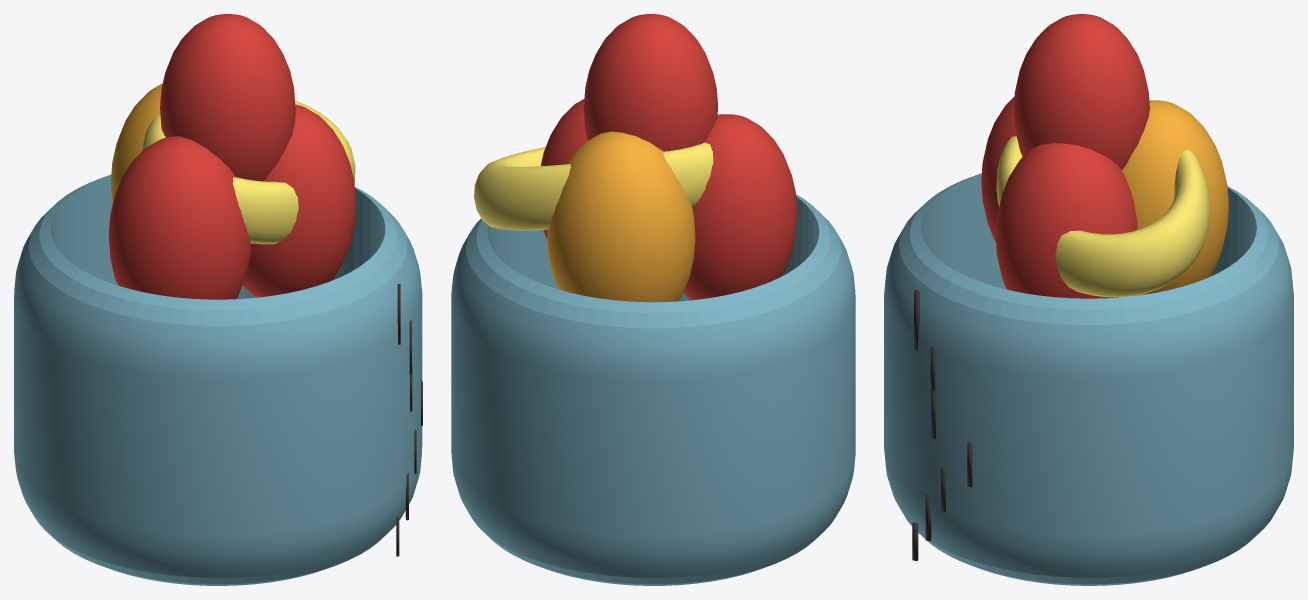
File: fruit_bowl_dmg.glb
3 views of the same model, side by side, from view 1: azimuth 30°, elevation 25°; view 2: azimuth 150°, elevation 25°; view 3: azimuth 270°, elevation 25° (orthographic).
Visible parts, largest first — view 1: Cylinder.001, Sphere.004, Sphere.007, Sphere.005, Torus.001, Sphere.006; view 2: Cylinder.001, Sphere.006, Sphere.004, Sphere.007, Torus.001, Sphere.005; view 3: Cylinder.001, Sphere.007, Sphere.005, Torus.001, Sphere.006, Sphere.004.
Boxes of the visible parts, x1,y1,x2,y2 form: Cylinder.001: [14, 174, 422, 585]; Sphere.004: [108, 136, 251, 299]; Sphere.007: [160, 14, 295, 181]; Sphere.005: [242, 104, 356, 297]; Torus.001: [141, 100, 355, 244]; Sphere.006: [111, 83, 162, 204]; Cylinder.001: [451, 194, 855, 585]; Sphere.006: [547, 131, 695, 302]; Sphere.004: [683, 114, 797, 300]; Sphere.007: [583, 14, 717, 151]; Torus.001: [474, 142, 713, 230]; Sphere.005: [541, 99, 587, 239]; Cylinder.001: [884, 173, 1293, 585]; Sphere.007: [1013, 14, 1149, 170]; Sphere.005: [995, 143, 1137, 298]; Torus.001: [996, 136, 1209, 297]; Sphere.006: [1122, 100, 1228, 295]; Sphere.004: [981, 96, 1016, 241].
Bounding box in the file's own units: 5.7 × 7.72 × 5.7.
